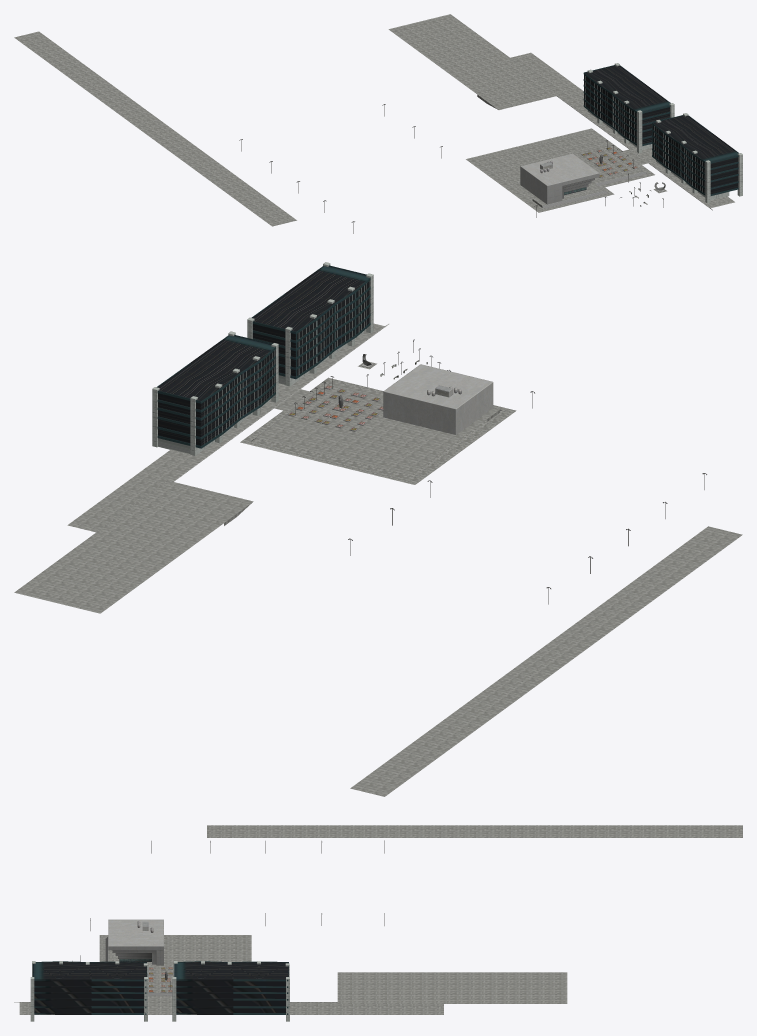
Rendered from 00_03_outside_university_no_ground.dae.
3 views of the same model, one above another, from view 1: azimuth 30°, elevation 25°; view 2: azimuth 150°, elevation 25°; view 3: azimuth 270°, elevation 25° (orthographic). The views are drawn at different scales.
Parts seen in each view (by area): view 1: polySurface455, Object019-Pivot, Object048-Pivot, Object001-Pivot, polySurface500; view 2: polySurface455, Object048-Pivot, Object019-Pivot, Object001-Pivot; view 3: polySurface455, Object048-Pivot, Object019-Pivot, Object001-Pivot.
Part boxes in pixels (x1,y1,x2,y2): polySurface455: [14, 14, 734, 226]; Object019-Pivot: [652, 113, 742, 203]; Object048-Pivot: [583, 63, 674, 153]; Object001-Pivot: [520, 153, 599, 204]; polySurface500: [542, 130, 646, 208]; polySurface455: [14, 323, 742, 796]; Object048-Pivot: [152, 331, 278, 455]; Object019-Pivot: [247, 262, 373, 386]; Object001-Pivot: [383, 364, 493, 434]; polySurface455: [14, 825, 742, 1014]; Object048-Pivot: [172, 961, 289, 1021]; Object019-Pivot: [30, 961, 147, 1021]; Object001-Pivot: [108, 919, 163, 965].
Size of the model in its own units: 275 by 29.33 by 433.
